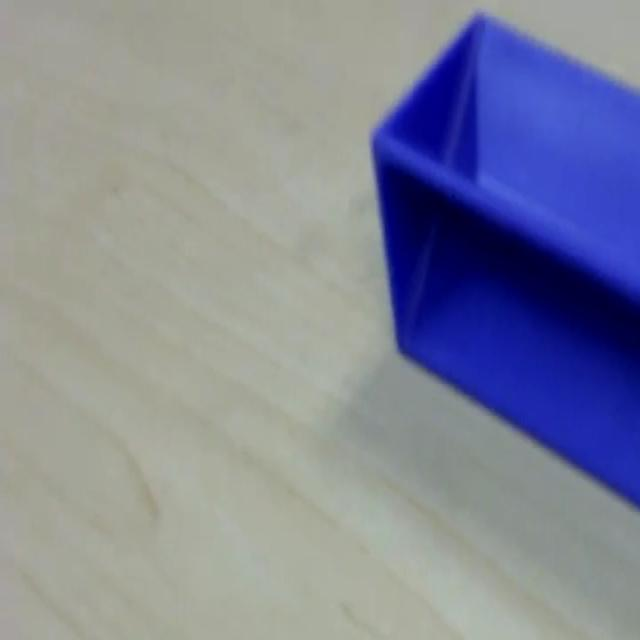blue_block: (368, 9, 638, 510)
